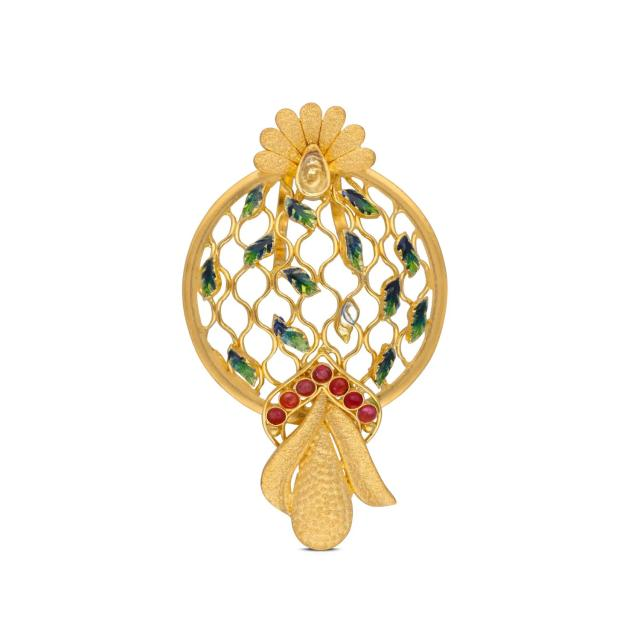missing gem: (299, 146, 328, 194), (338, 301, 356, 341)
